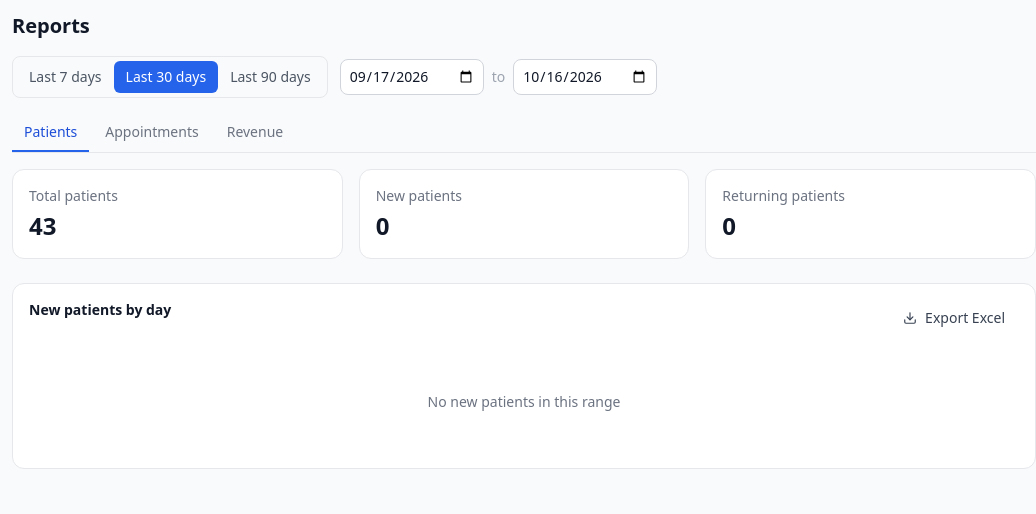
Test case: Reports › lists appointments by status with their share of the total
Click the tab "Appointments".
click(152, 133)  # box [93,114,211,152]
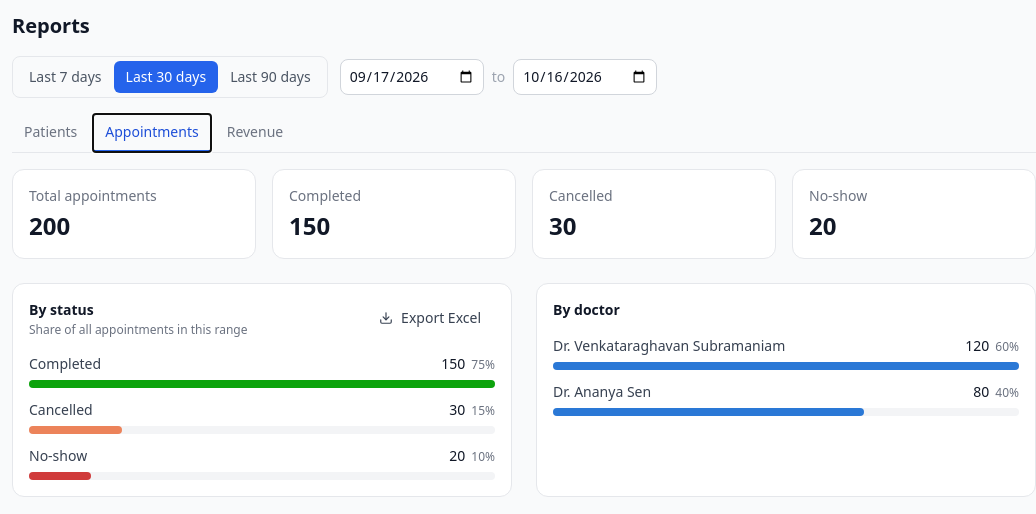
Expected: the list item "Completed" shows "15075%", [29,354,495,388]
Expected: the list item "No-show" shows "2010%", [29,446,495,480]
